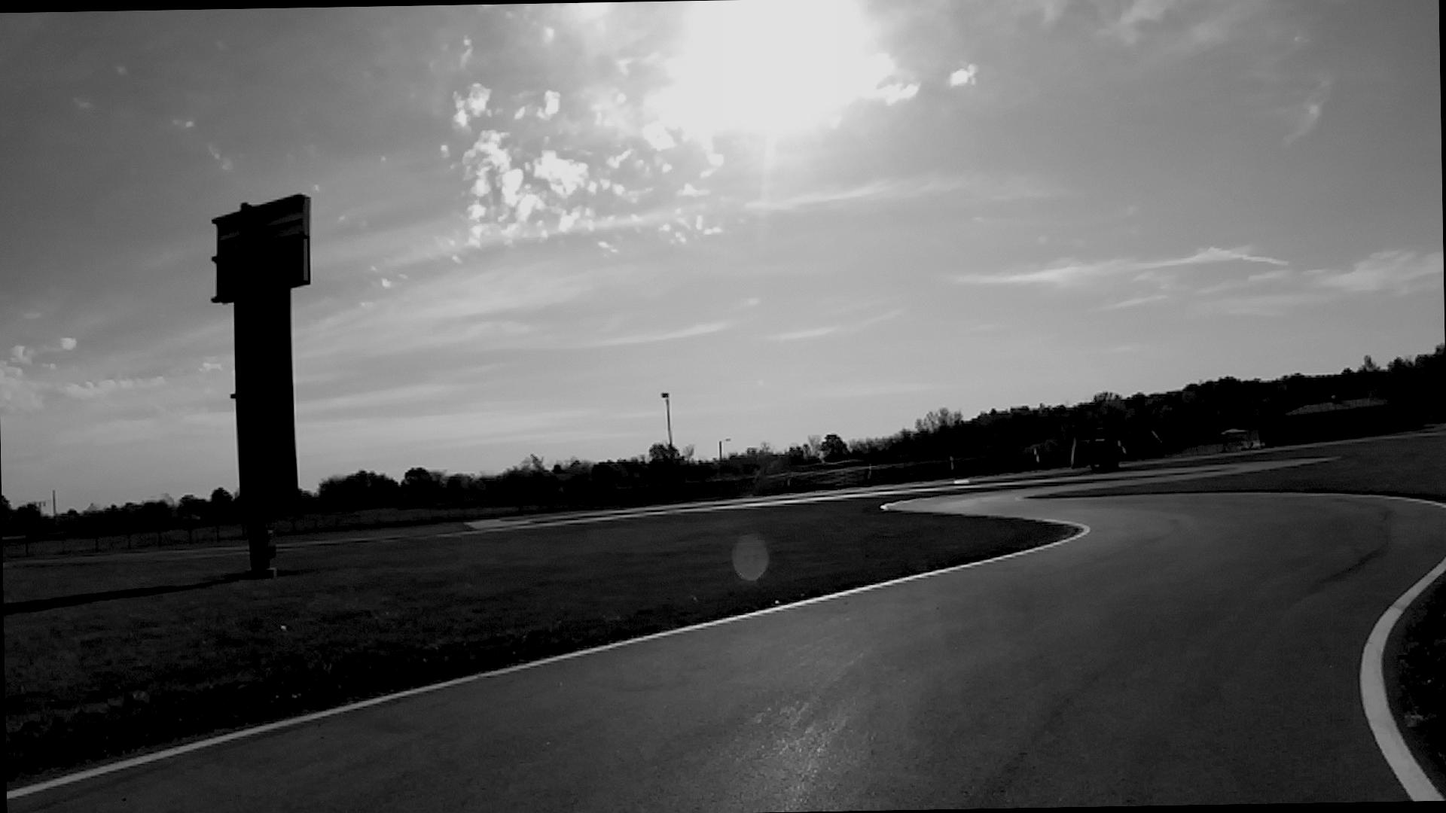white-line: (7, 519, 1089, 800), (1361, 555, 1446, 801)
